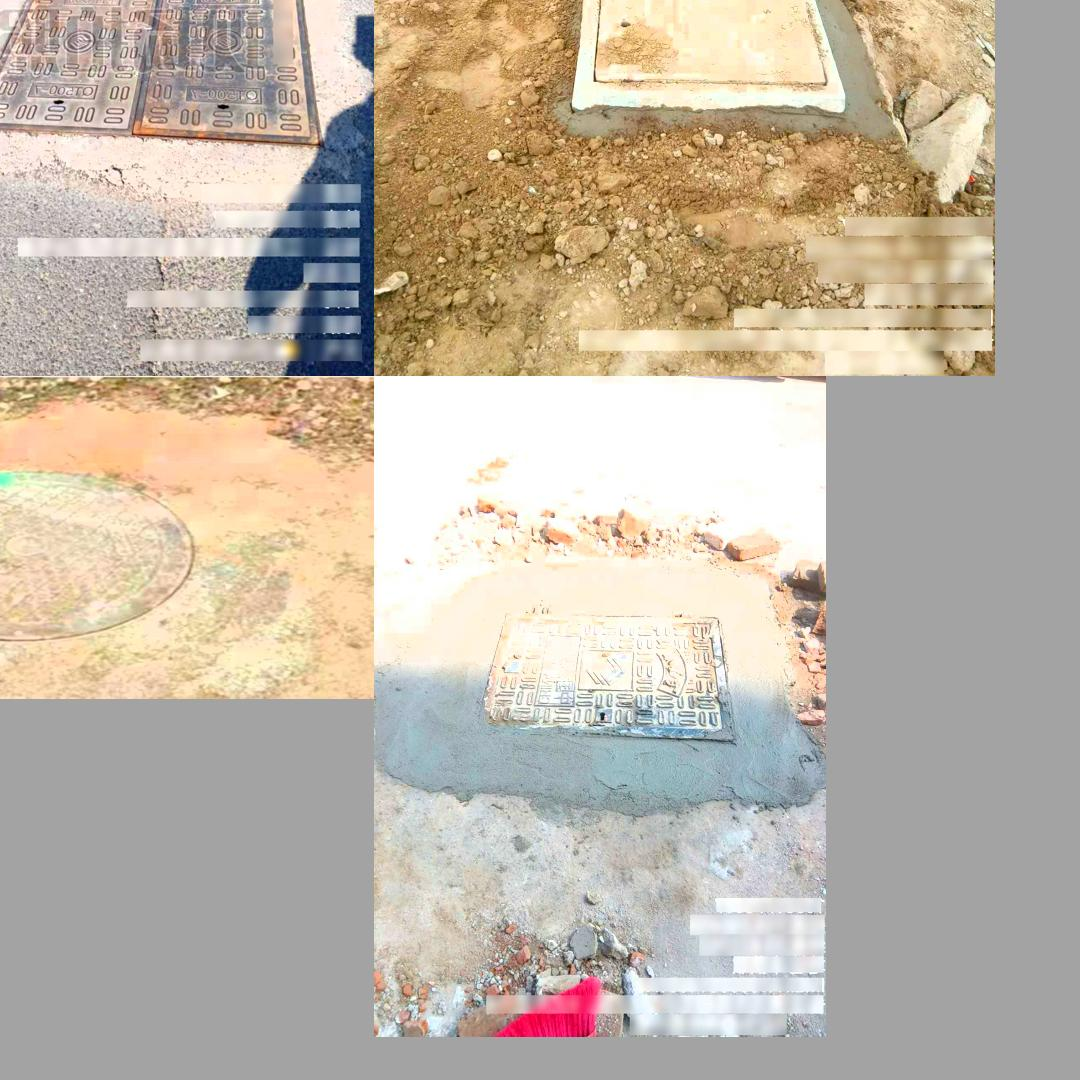good: (0, 0, 324, 147), (0, 462, 208, 647), (477, 607, 735, 740), (569, 0, 847, 109)
